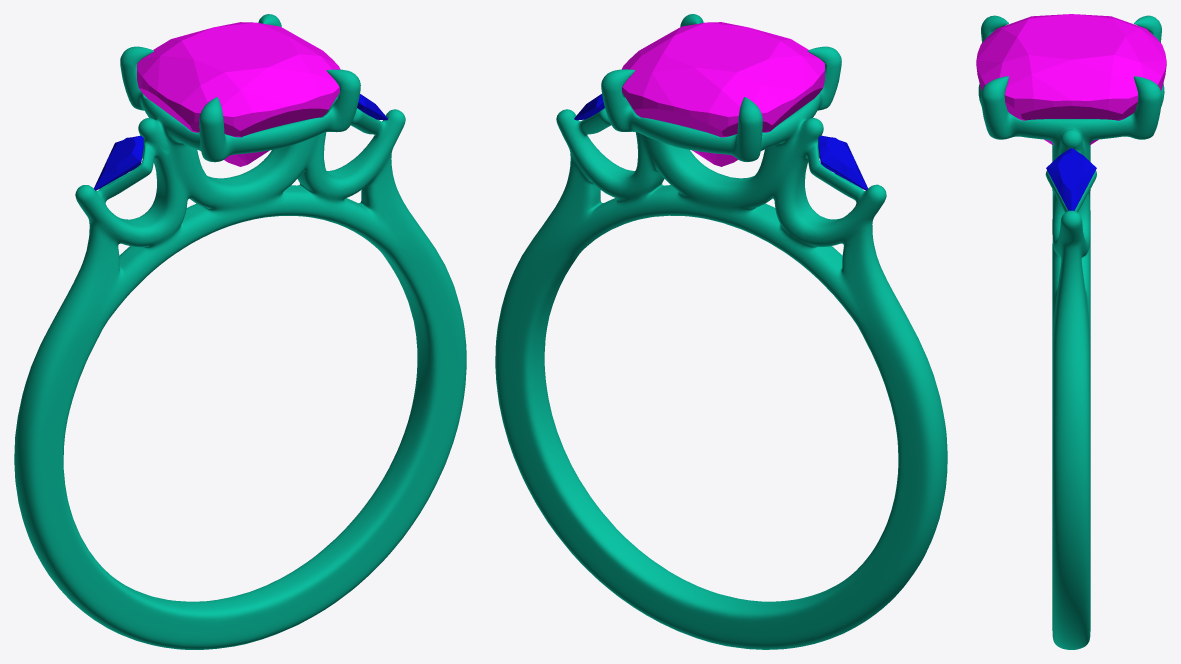
Rendered from BE1D5400_CU_200ct_RENDER.glb.
The picture shows the model from 3 angles, left to right: view 1: azimuth 30°, elevation 25°; view 2: azimuth 150°, elevation 25°; view 3: azimuth 270°, elevation 25°; orthographic projection.
Visible parts, largest first — view 1: Metal 01, CS_Diamond_Cushion, Diamond_Marquise_side.001; view 2: Metal 01, CS_Diamond_Cushion, Diamond_Marquise_side.001; view 3: Metal 01, CS_Diamond_Cushion, Diamond_Marquise_side.
Boxes of the visible parts, x1,y1,x2,y2 form: Metal 01: (14, 14, 466, 649); CS_Diamond_Cushion: (137, 22, 340, 166); Diamond_Marquise_side.001: (94, 135, 143, 190); Metal 01: (495, 14, 947, 649); CS_Diamond_Cushion: (621, 22, 824, 166); Diamond_Marquise_side.001: (818, 135, 867, 190); Metal 01: (978, 15, 1164, 649); CS_Diamond_Cushion: (976, 14, 1166, 144); Diamond_Marquise_side: (1046, 148, 1096, 210).
Size of the model in its own units: 20.09 by 25.66 by 7.5.
